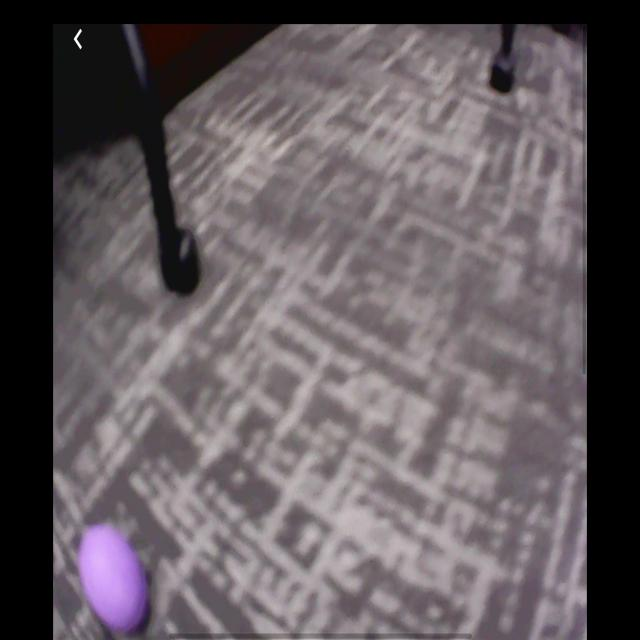ball: (76, 525, 148, 631)
